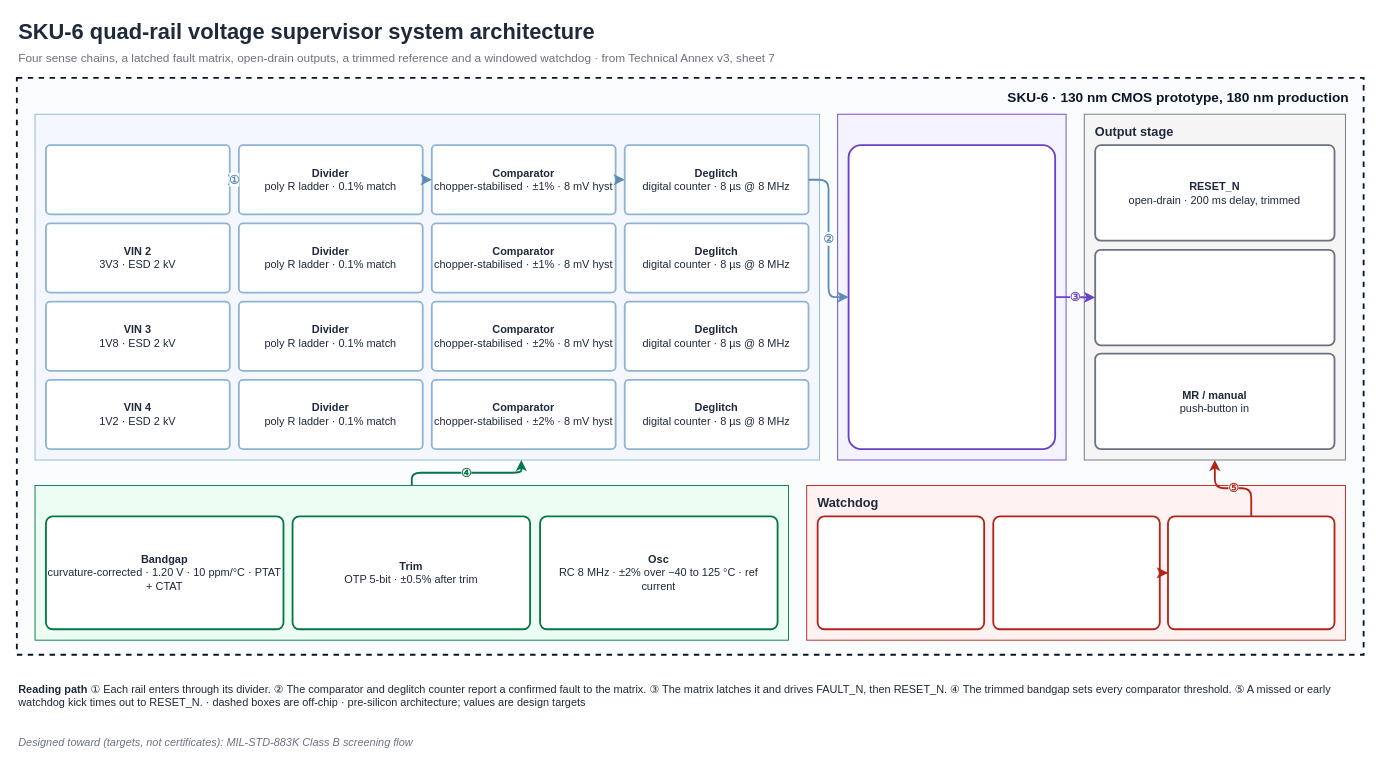
The diagram is 1380 pixels wide and 768 high, and some of its shapes have lost their labels. The shapes that lost their labels are listed below. From the top down, each one's box as (x1, y1, x2, y2) in pixels, then its label:
(45, 144, 230, 215): VIN 1 5V0 · ESD 2 kV
(34, 113, 819, 460): Sense chain · one per rail
(837, 113, 1066, 460): Fault logic
(847, 144, 1056, 450): Fault matrix maskable · latched · priority enc · mask reg · latch · I²C regs
(1094, 248, 1335, 346): FAULT_N open-drain · asserts before RESET_N
(34, 485, 789, 640): Reference + timebase
(816, 515, 985, 630): Window logic open + close
(992, 515, 1160, 630): WDI kick input
(1167, 515, 1335, 630): Timeout counter → RESET_N
